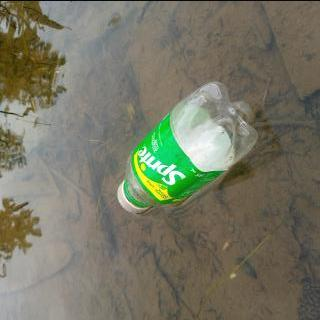bottle: (114, 78, 261, 216)
